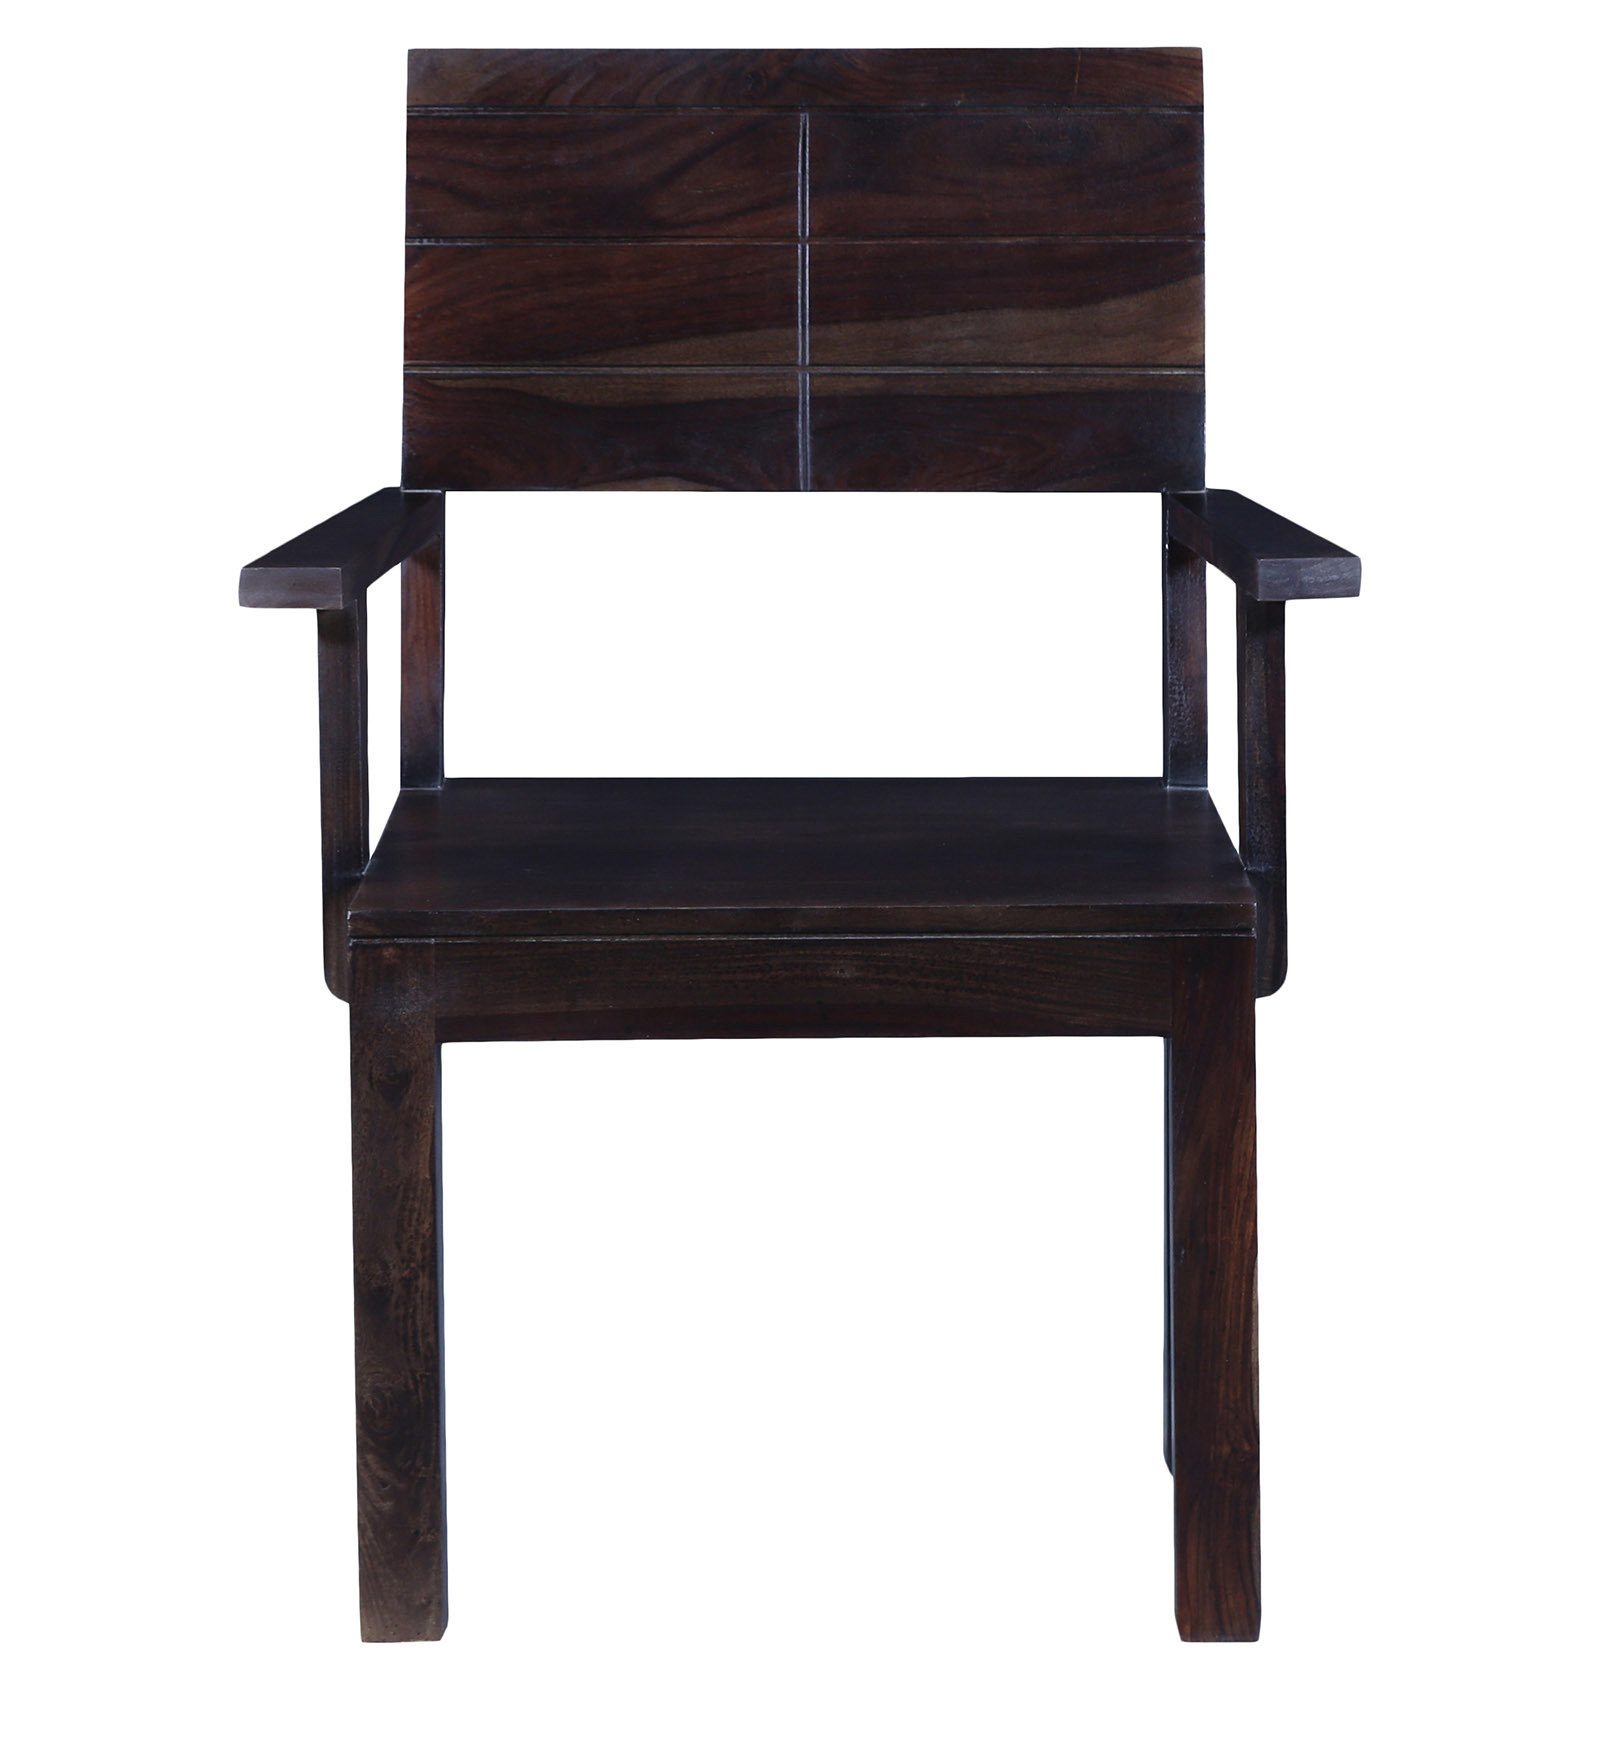Segur Arm Chair in Warm Chestnut Finish by Woodsworth: (208, 15, 1373, 1674)
